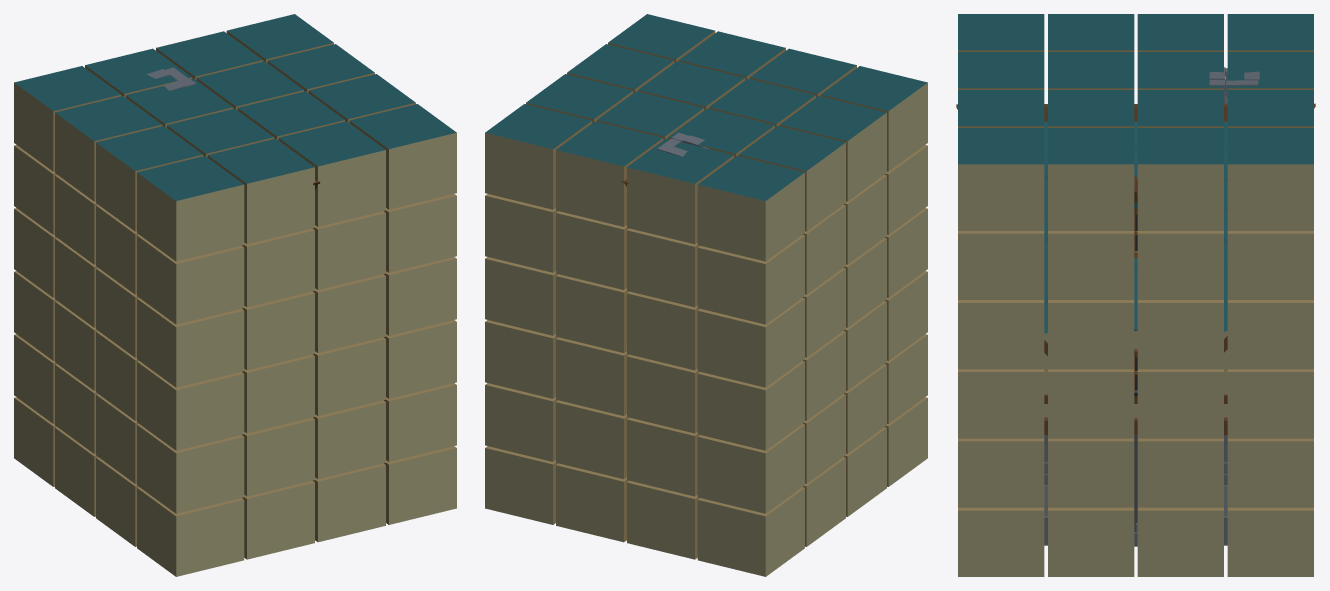
File: House_1_destructible.gltf
3 renders of one model, left to right at view 1: azimuth 30°, elevation 25°; view 2: azimuth 150°, elevation 25°; view 3: azimuth 270°, elevation 25°, orthographic. The views are drawn at different scales.
Visible parts, largest first — view 1: block_f5_r3_c0, block_f5_r3_c1, block_f5_r3_c3, block_f5_r3_c2, block_f4_r3_c0, block_f0_r3_c0, block_f1_r3_c0, block_f2_r3_c0, block_f3_r3_c0, block_f5_r0_c0, block_f5_r2_c0, block_f5_r1_c0 (+39 smaller); view 2: block_f5_r0_c0, block_f5_r0_c1, block_f5_r0_c3, block_f5_r0_c2, block_f4_r0_c0, block_f0_r0_c0, block_f1_r0_c0, block_f2_r0_c0, block_f3_r0_c0, block_f5_r3_c0, block_f5_r1_c0, block_f5_r2_c0 (+39 smaller); view 3: block_f5_r1_c3, block_f5_r2_c3, block_f5_r0_c3, block_f5_r3_c3, block_f3_r1_c3, block_f3_r2_c3, block_f0_r1_c3, block_f0_r2_c3, block_f2_r2_c3, block_f2_r1_c3, block_f1_r1_c3, block_f1_r2_c3 (+24 smaller).
Part boxes in pixels (x1,y1,x2,y2): block_f5_r3_c0: [137, 156, 244, 261]; block_f5_r3_c1: [207, 138, 317, 244]; block_f5_r3_c3: [349, 104, 456, 209]; block_f5_r3_c2: [278, 121, 385, 226]; block_f4_r3_c0: [137, 235, 244, 324]; block_f0_r3_c0: [137, 487, 244, 576]; block_f1_r3_c0: [137, 424, 244, 513]; block_f2_r3_c0: [137, 361, 244, 450]; block_f3_r3_c0: [137, 298, 244, 387]; block_f5_r0_c0: [14, 66, 121, 171]; block_f5_r2_c0: [96, 126, 203, 231]; block_f5_r1_c0: [55, 96, 162, 201]; block_f5_r0_c0: [697, 156, 804, 261]; block_f5_r0_c1: [625, 138, 734, 244]; block_f5_r0_c3: [485, 104, 592, 209]; block_f5_r0_c2: [556, 121, 663, 226]; block_f4_r0_c0: [697, 235, 804, 324]; block_f0_r0_c0: [697, 487, 804, 576]; block_f1_r0_c0: [697, 424, 804, 513]; block_f2_r0_c0: [697, 361, 804, 450]; block_f3_r0_c0: [697, 298, 804, 387]; block_f5_r3_c0: [820, 66, 927, 171]; block_f5_r1_c0: [738, 126, 845, 231]; block_f5_r2_c0: [779, 96, 886, 201]; block_f5_r1_c3: [1136, 128, 1223, 230]; block_f5_r2_c3: [1048, 128, 1135, 230]; block_f5_r0_c3: [1227, 128, 1313, 230]; block_f5_r3_c3: [958, 128, 1044, 230]; block_f3_r1_c3: [1136, 264, 1225, 369]; block_f3_r2_c3: [1046, 265, 1135, 369]; block_f0_r1_c3: [1136, 476, 1225, 576]; block_f0_r2_c3: [1046, 476, 1135, 576]; block_f2_r2_c3: [1046, 340, 1135, 438]; block_f2_r1_c3: [1136, 340, 1225, 438]; block_f1_r1_c3: [1136, 410, 1225, 507]; block_f1_r2_c3: [1046, 410, 1135, 507].
Bounding box in the file's own units: 8.41 × 10.84 × 8.5.
